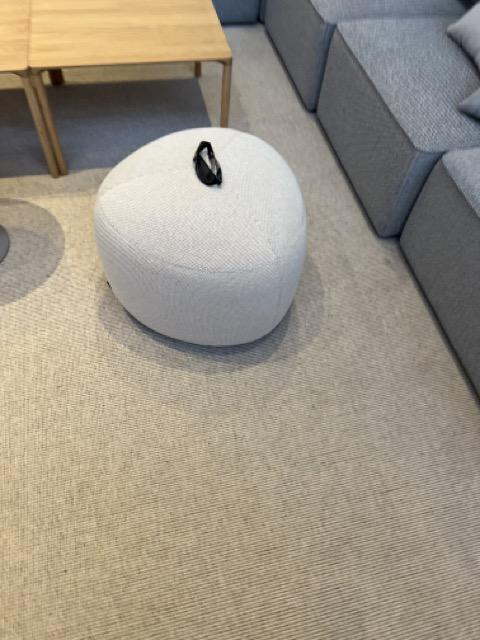Sunglasses: (191, 138, 225, 188)
